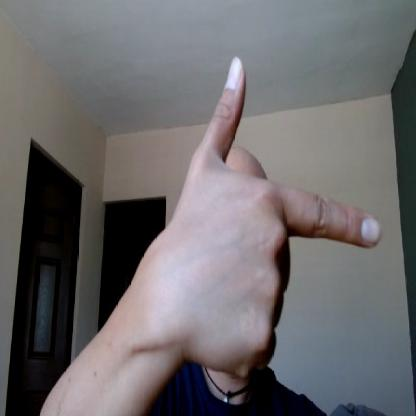G: (178, 52, 383, 377)
